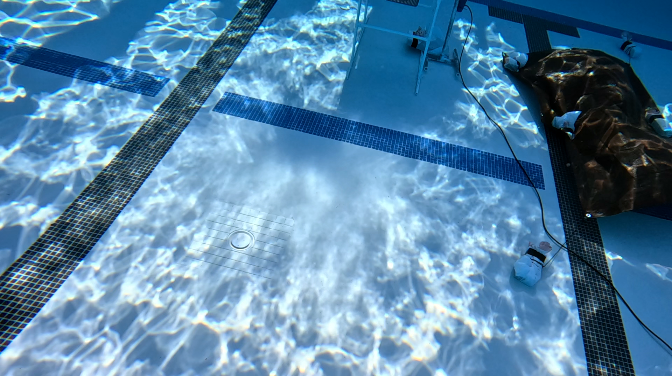sandbag: (495, 50, 671, 217), (512, 237, 548, 283), (619, 39, 644, 59)
